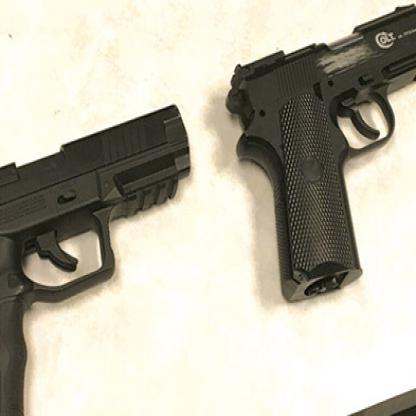gun: (0, 92, 198, 415), (219, 0, 416, 316)
